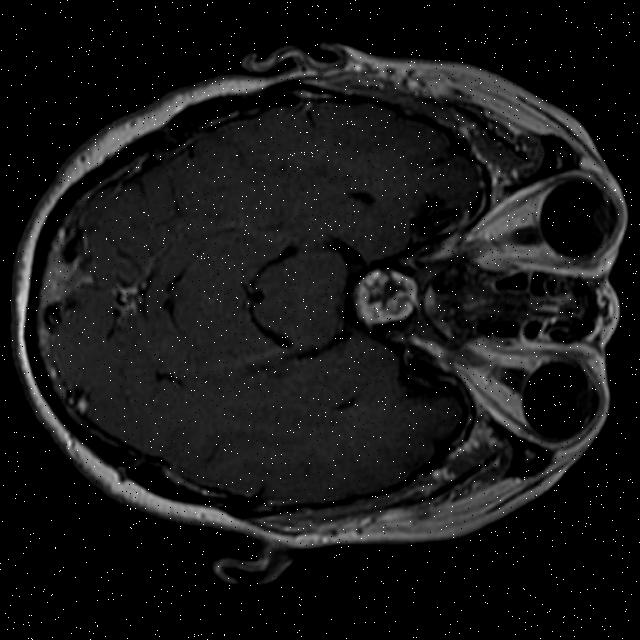Pituitary: (350, 265, 422, 329)
